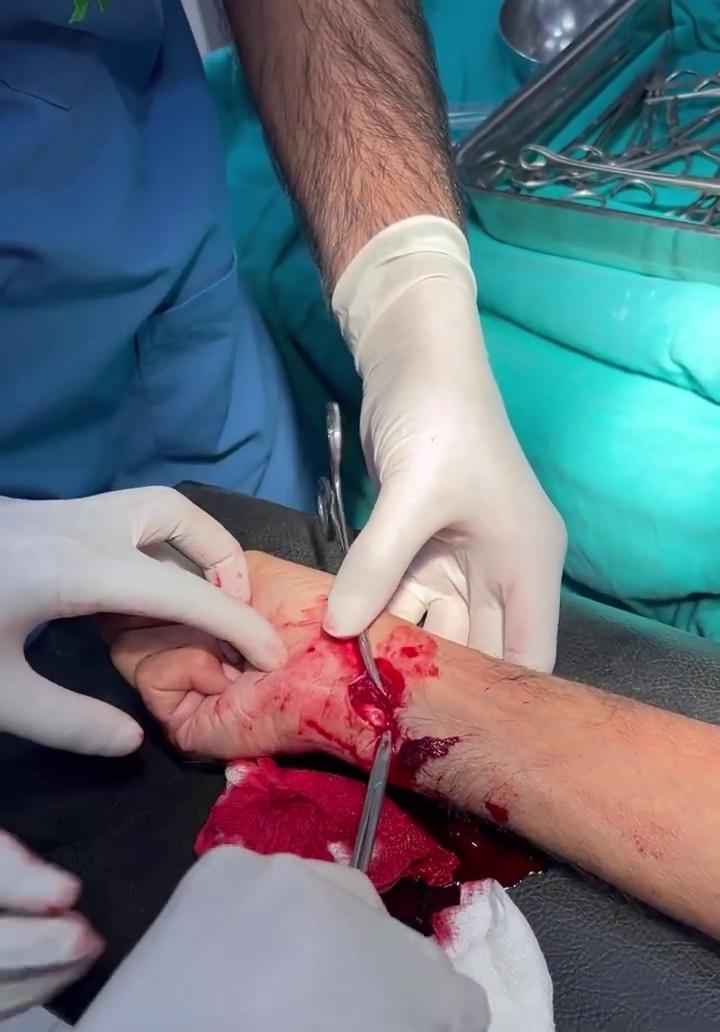Fire: (304, 622, 548, 936), (196, 758, 366, 866)
